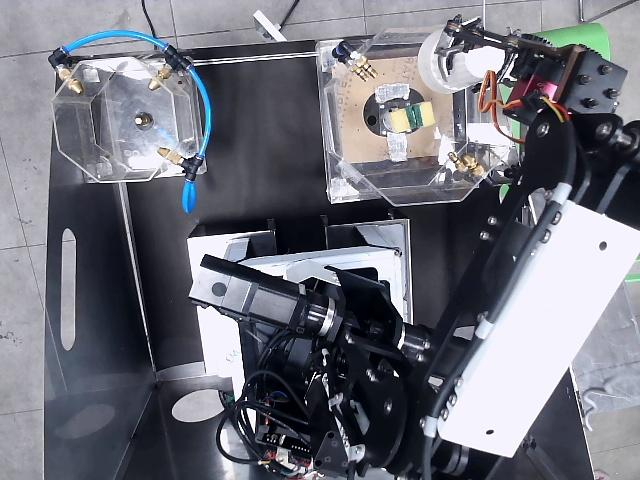cup: (417, 29, 501, 93)
